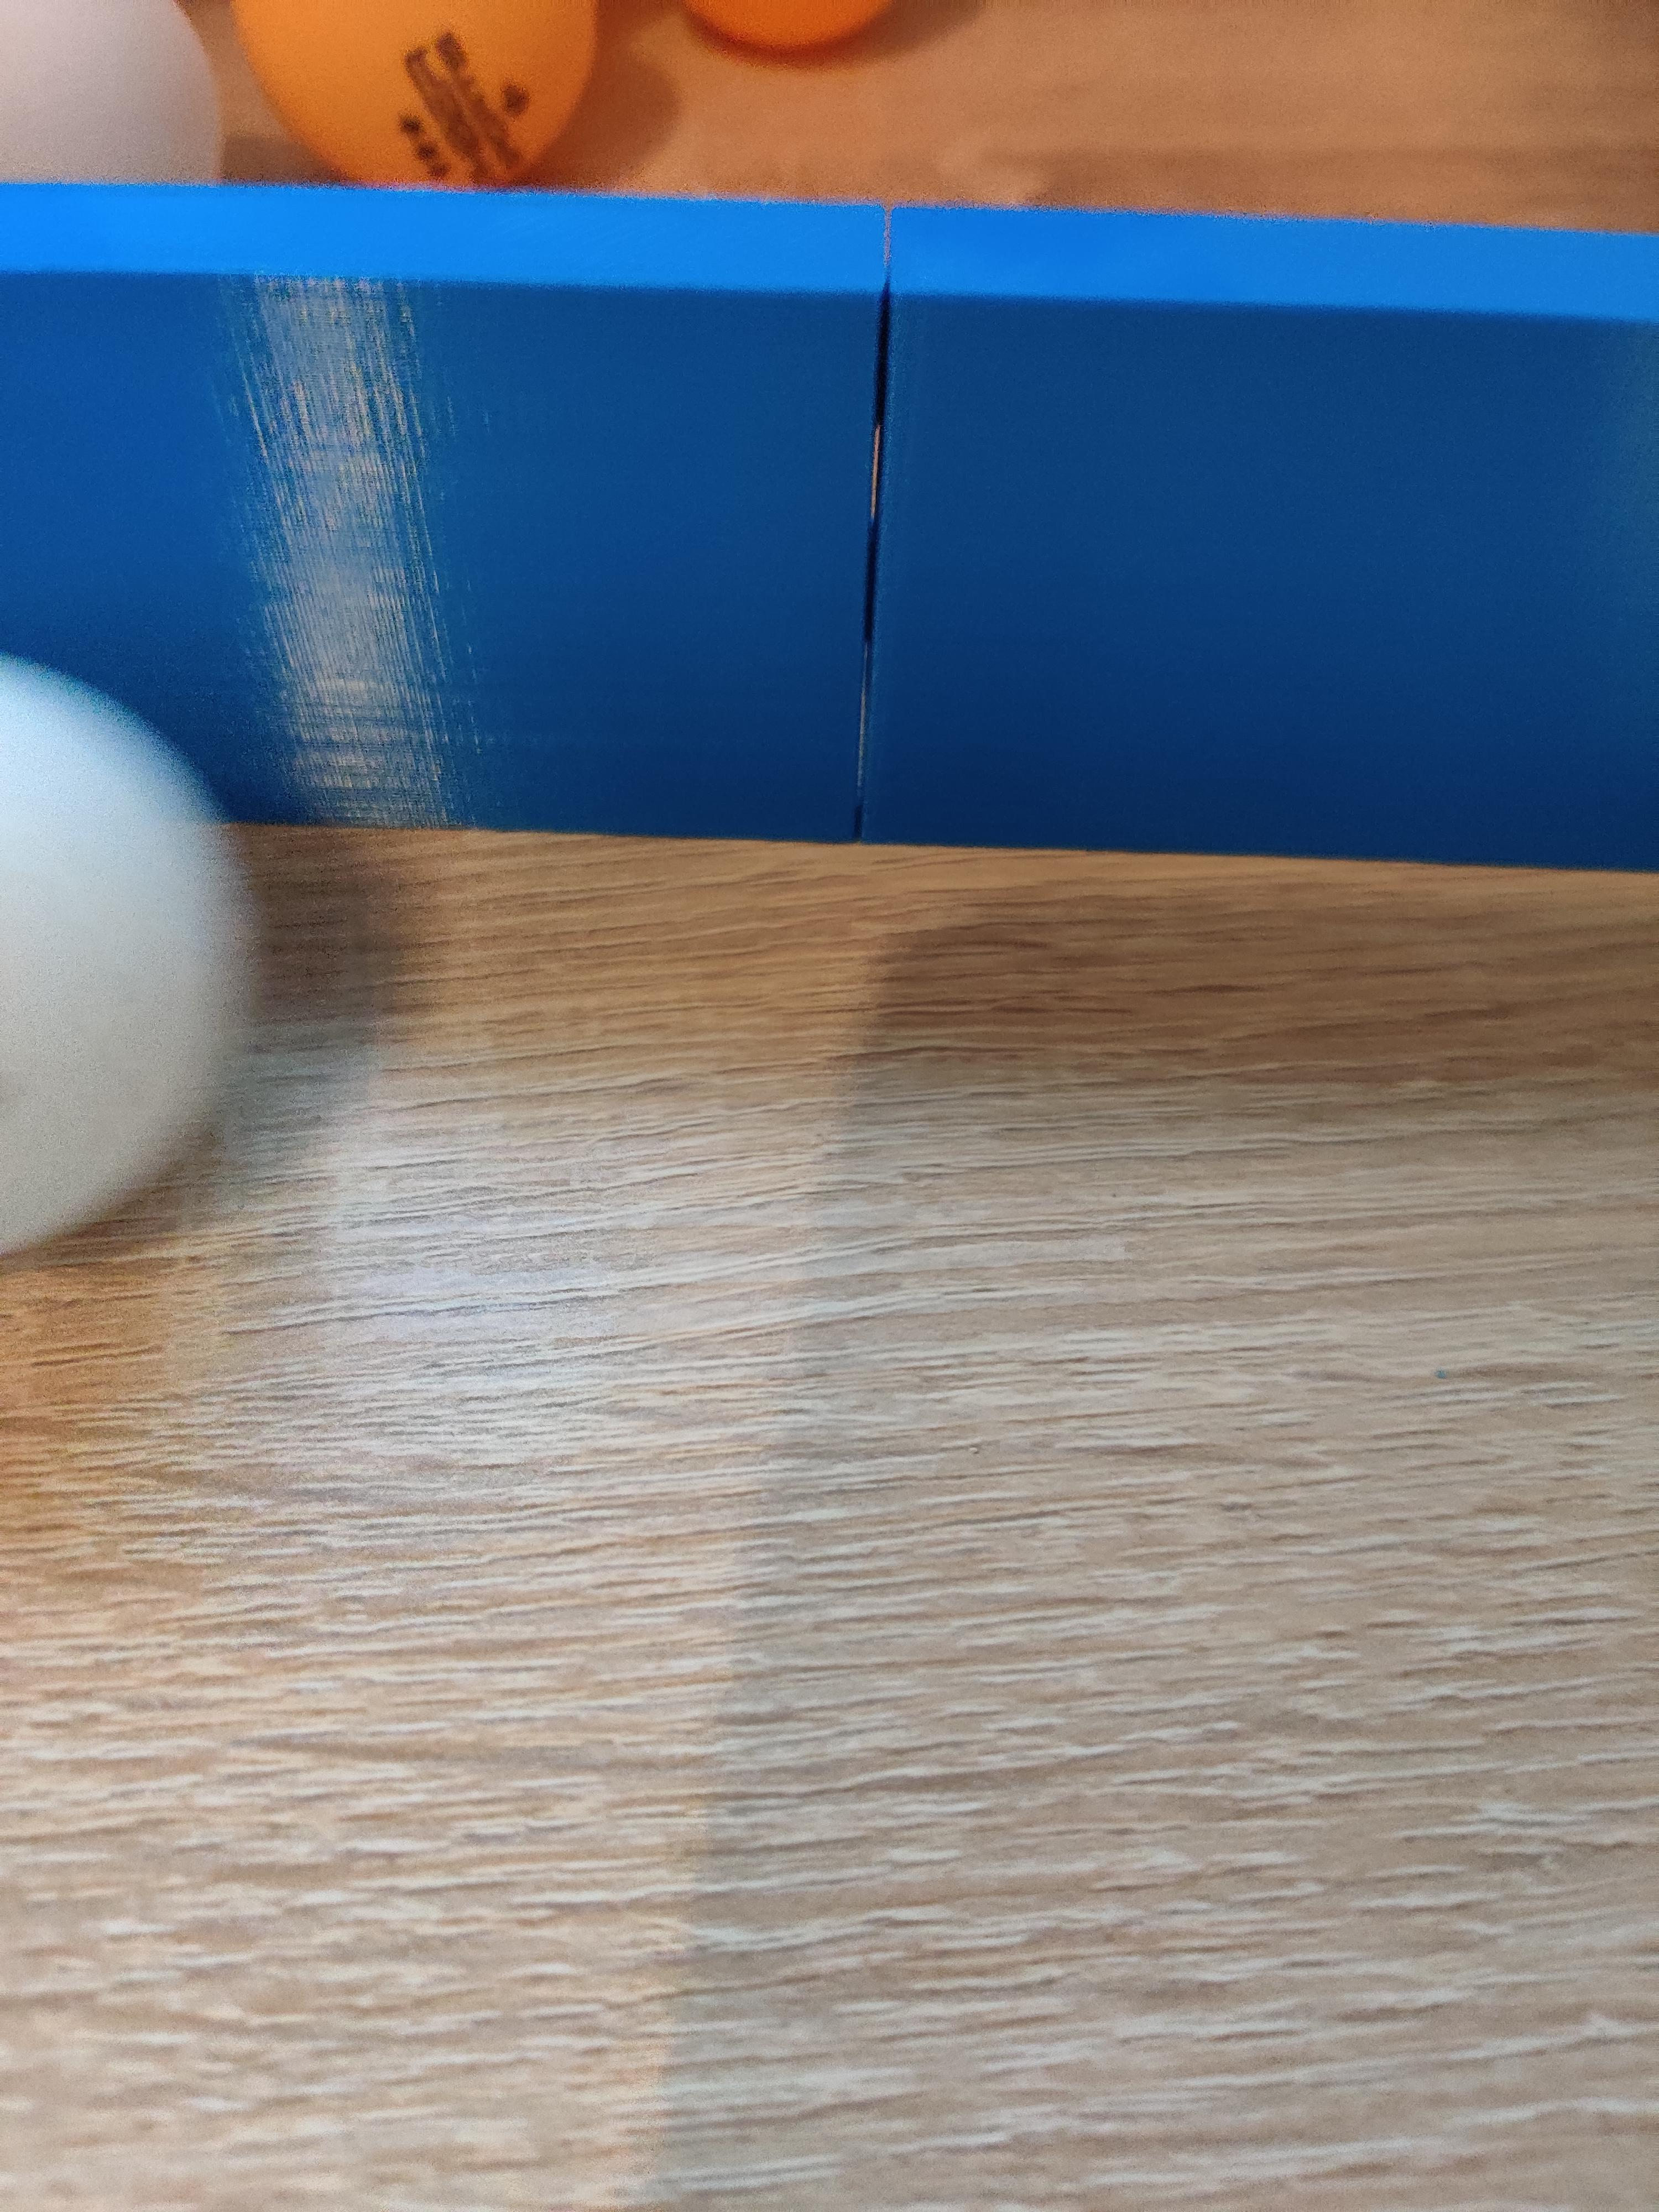orange: (237, 0, 608, 193), (673, 0, 899, 61)
white: (2, 636, 247, 1268), (0, 0, 237, 188)
